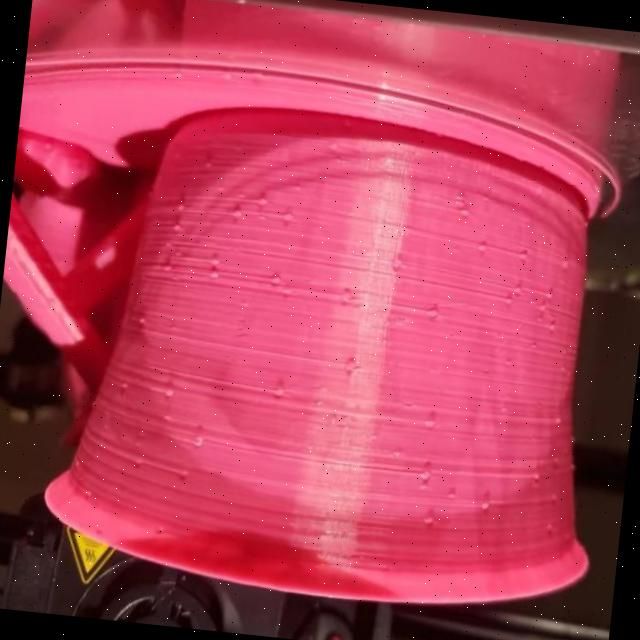blobs: (417, 411, 444, 434), (266, 378, 289, 402), (416, 462, 436, 484), (203, 250, 224, 270), (267, 268, 285, 288), (336, 286, 354, 304), (204, 268, 224, 284), (499, 290, 518, 306), (280, 208, 296, 226), (476, 497, 492, 513), (160, 260, 175, 277), (454, 190, 469, 207), (168, 221, 186, 235), (228, 208, 246, 222), (252, 194, 270, 208), (532, 300, 548, 315), (420, 512, 437, 526), (160, 386, 174, 402), (544, 286, 556, 302), (511, 281, 525, 294), (175, 200, 187, 215), (474, 238, 489, 250), (456, 205, 469, 218), (516, 252, 532, 262), (552, 412, 564, 425)
